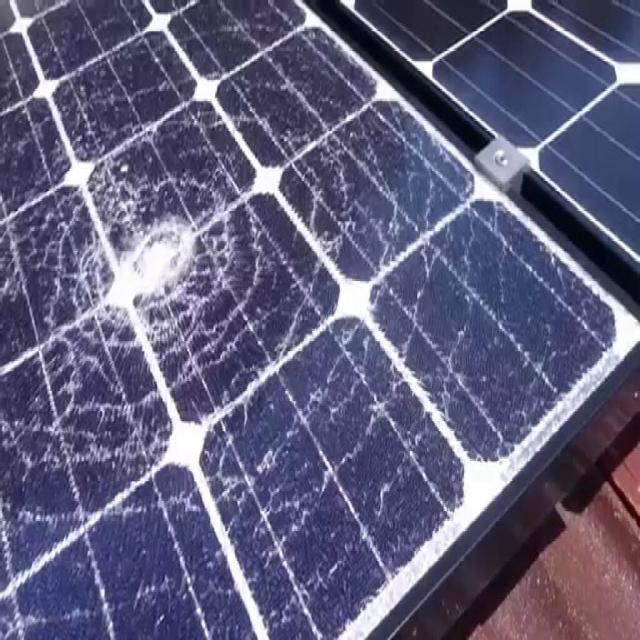physical damage: (11, 43, 291, 550)
